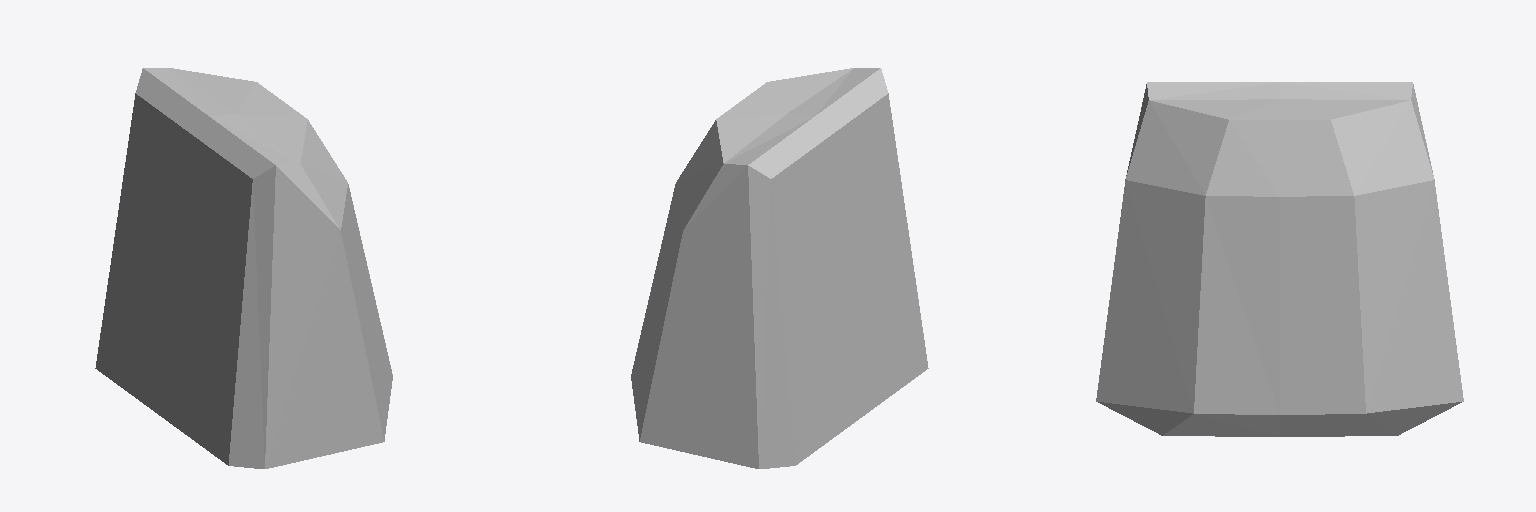
File: middlej3_left.obj
3 views of the same model, side by side, from view 1: azimuth 30°, elevation 25°; view 2: azimuth 150°, elevation 25°; view 3: azimuth 270°, elevation 25° (orthographic).
Visible parts, largest first — view 1: Cube; view 2: Cube; view 3: Cube.
Part boxes in pixels (bbox=[...]): Cube: bbox=[95, 68, 392, 468]; Cube: bbox=[631, 68, 928, 468]; Cube: bbox=[1096, 82, 1463, 436].
Bounding box in the file's own units: 0.0111 × 0.017 × 0.0188.